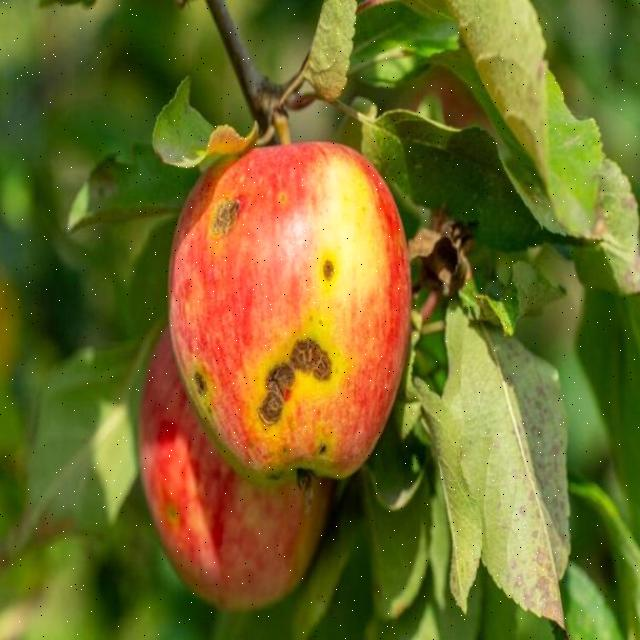SCAB: (150, 116, 462, 576)
